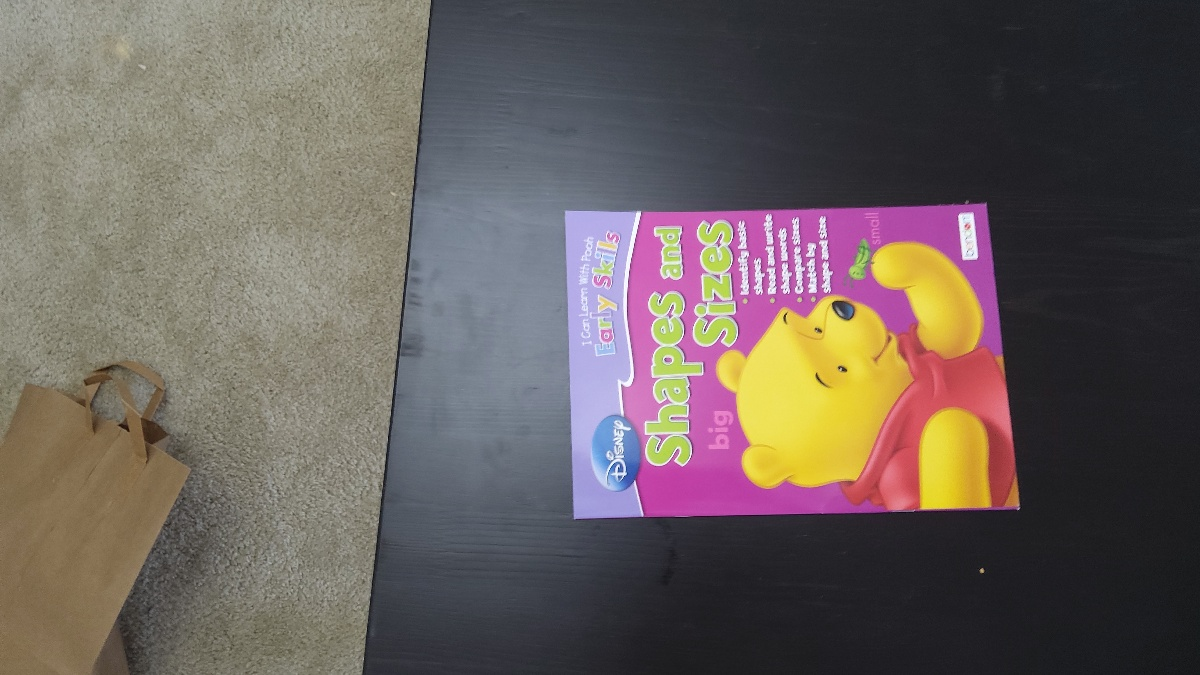book: (567, 209, 1018, 511)
